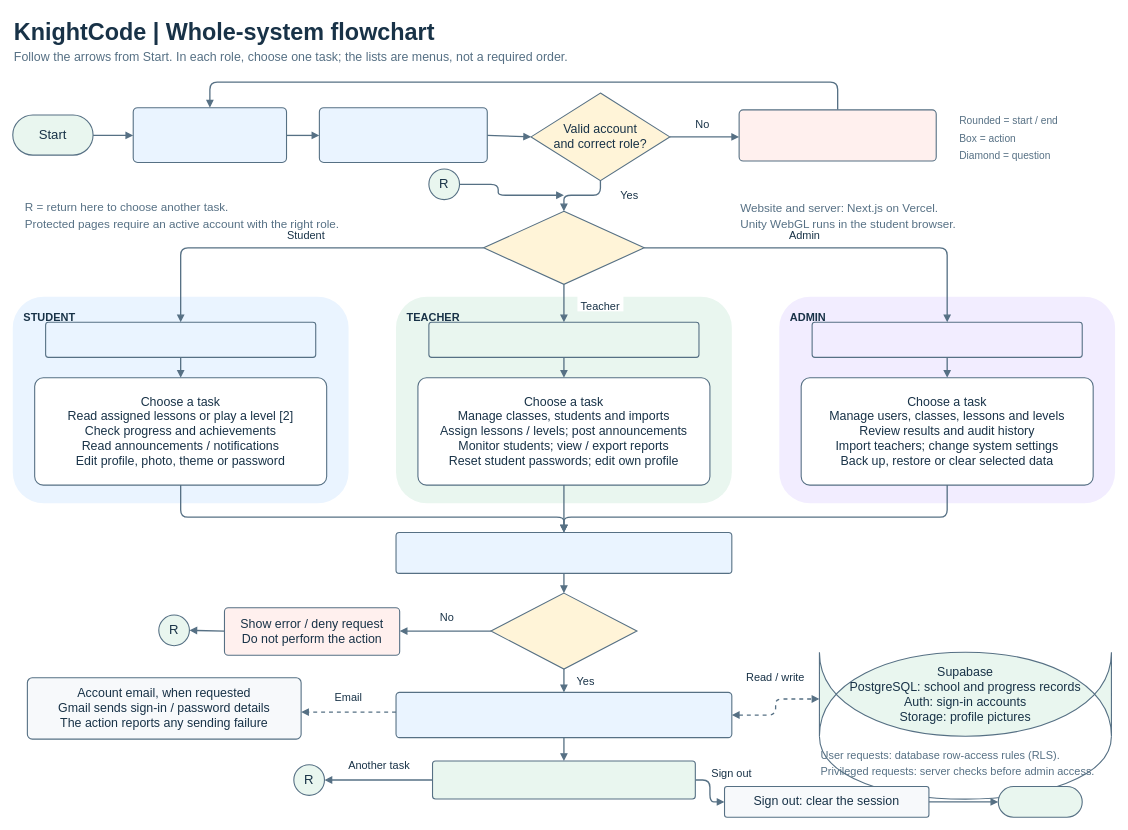
The diagram is 1128 pixels wide and 830 high, and some of its shapes have lost their labels. Here are the shapes that lost their labels. From the top down, the box of each, then its label:
(132, 107, 287, 163): Open the right login Enter account details
(318, 107, 487, 163): Supabase Auth checks the sign-in details
(738, 109, 936, 161): Show login error Try again
(483, 210, 644, 285): Which role?
(45, 321, 316, 358): Student dashboard
(428, 321, 699, 358): Teacher dashboard
(811, 321, 1082, 358): Admin dashboard
(395, 532, 732, 574): Next.js server checks the request Sign-in, role, input and access to the record
(490, 592, 637, 669): Allowed and valid?
(395, 692, 732, 738): Run the selected action Read data, save changes or prepare an export
(432, 760, 696, 799): Show the result / refreshed page
(997, 786, 1082, 817): End
